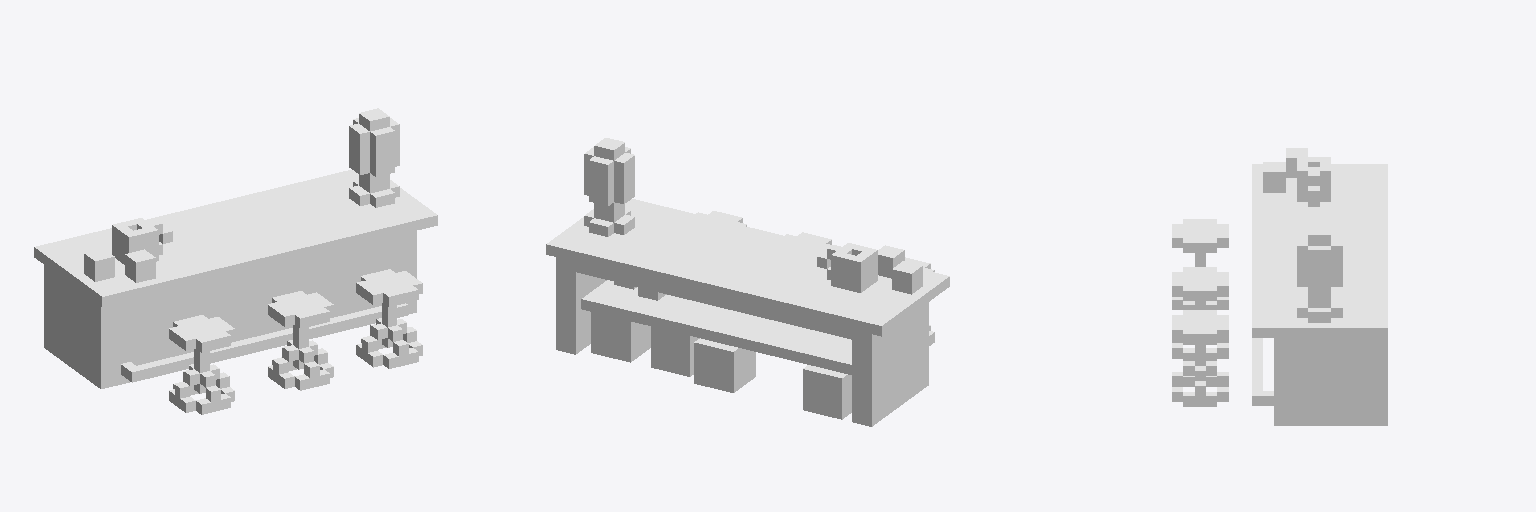
File: Bar_w_stools.obj
The picture shows the model from 3 angles: view 1: azimuth 30°, elevation 25°; view 2: azimuth 150°, elevation 25°; view 3: azimuth 270°, elevation 25°; orthographic projection.
Visible parts, largest first — view 1: Bar_w_stools; view 2: Bar_w_stools; view 3: Bar_w_stools.
Boxes of the visible parts, x1,y1,x2,y2 form: Bar_w_stools: [34, 108, 437, 414]; Bar_w_stools: [546, 138, 949, 426]; Bar_w_stools: [1172, 148, 1387, 425].
Size of the model in its own units: 34 by 18 by 19.